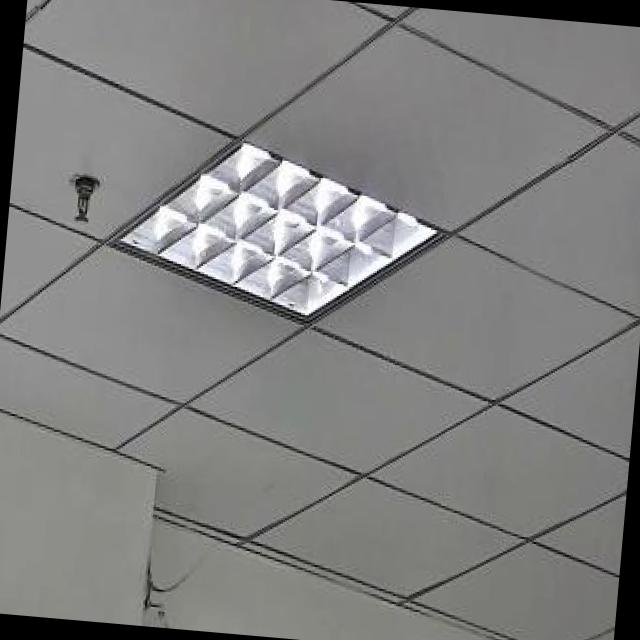Guns: (379, 610, 494, 640)
